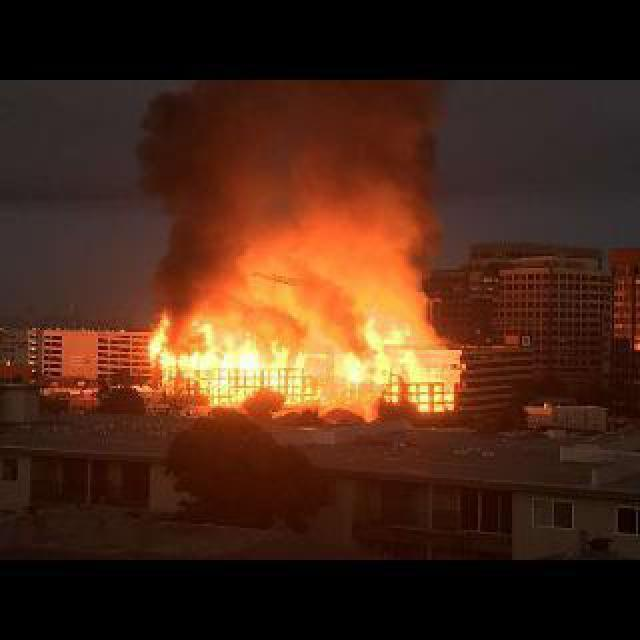Fire: (144, 310, 466, 420)
Smoke: (132, 80, 460, 310)
